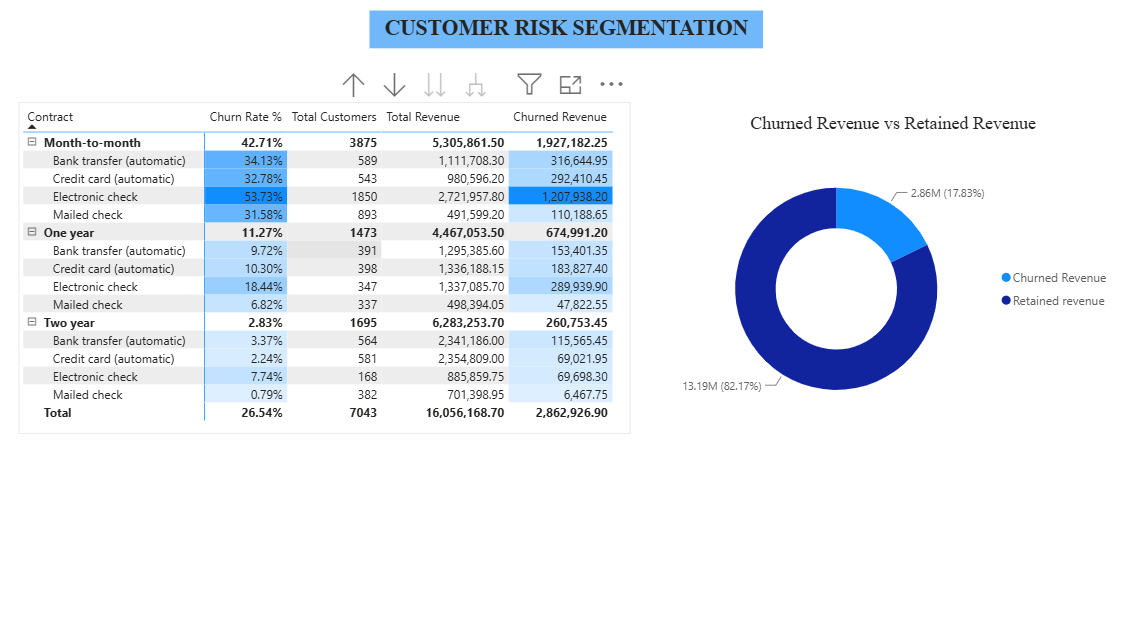

Layout of this report page (visuals, bound fields, positions):
{"tool":"powerbi","page":{"name":"Segmentation","canvas":[1280,720],"ordinal":1},"visuals":[{"type":"pivotTable","fields":{"Rows":["Customer.Contract","Customer.PaymentMethod"],"Values":["Customer.Churn Rate %","Customer.Total Customers","Customer.Total Revenue","Customer.Churned Revenue"]},"box":[32.4,119.8,678.5,369.2],"z":0},{"type":"donutChart","title":"Churned Revenue vs Retained Revenue","fields":{"Y":["Customer.Churned Revenue","Customer.Retained revenue"]},"box":[751.3,131.2,503.6,369.2],"z":1},{"type":"textbox","box":[421,17.8,437.2,42.1],"z":2}]}

Visuals, with their boxes in screenshot pixels (x1, y1, x2, y2), scaled from the page's 1280x720 canvas onto the 1129x628 screenshot:
pivotTable - Customer.Contract x Customer.PaymentMethod: <bbox>29, 104, 627, 427</bbox>
"Churned Revenue vs Retained Revenue" donutChart: <bbox>663, 114, 1107, 436</bbox>
textbox: <bbox>371, 16, 757, 52</bbox>
